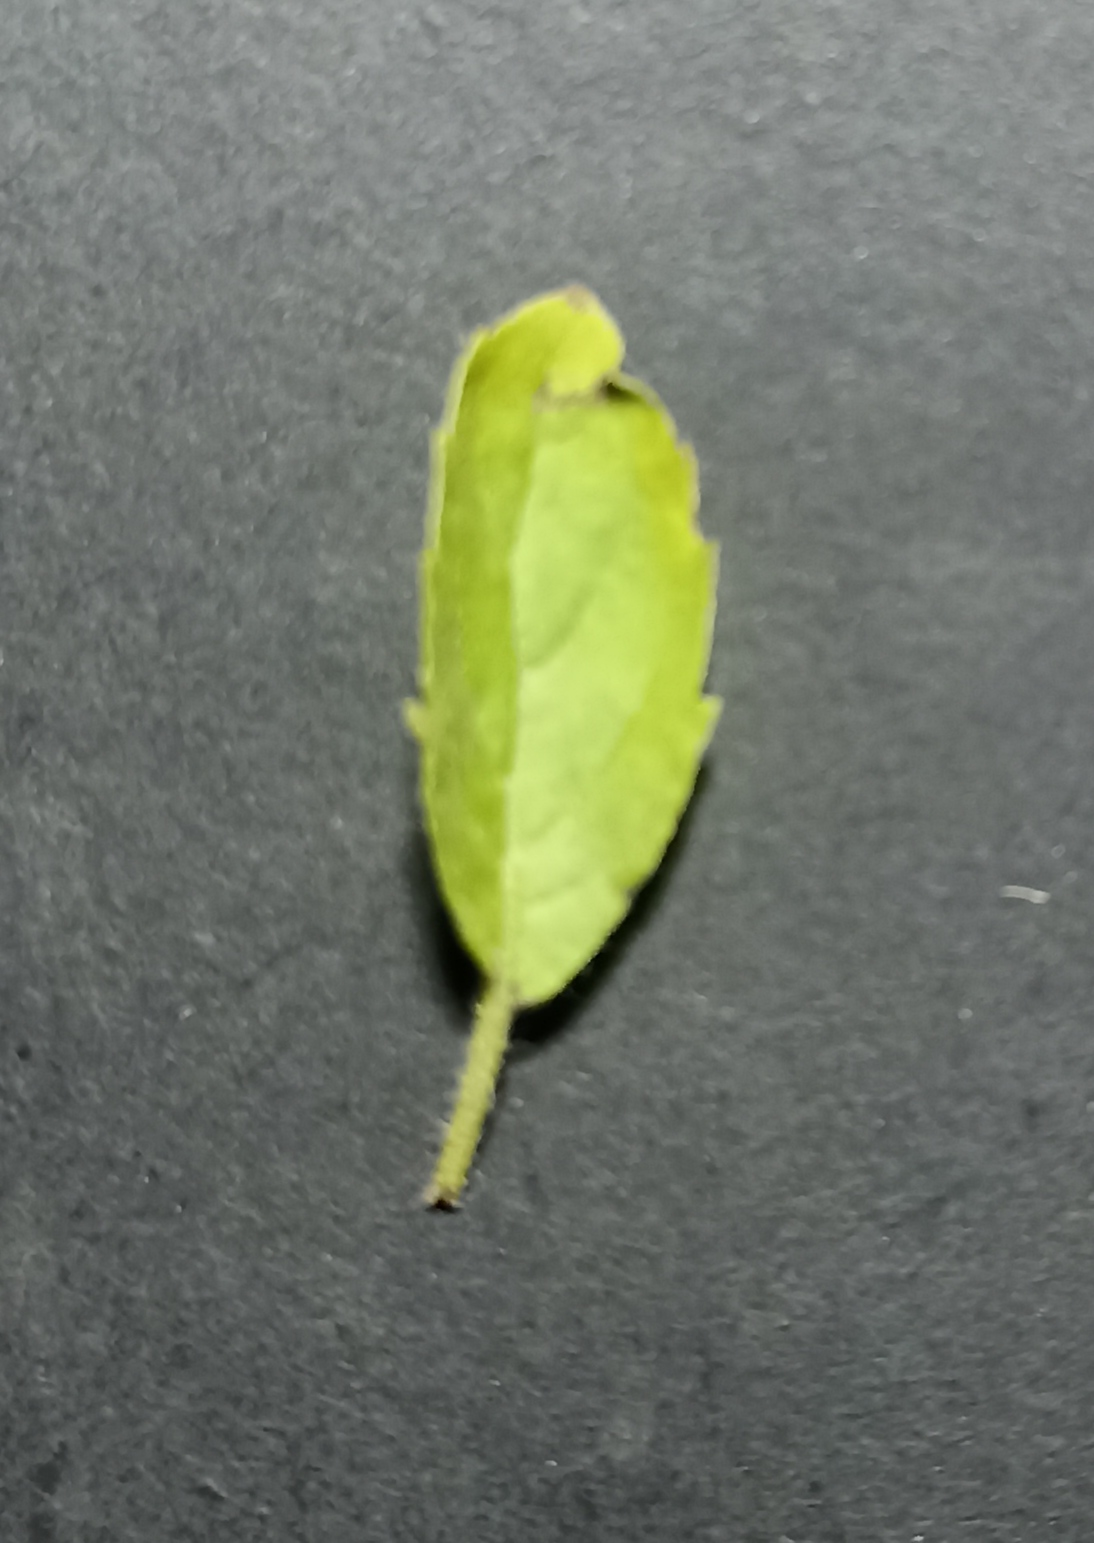Healthy: (416, 264, 741, 1035)
